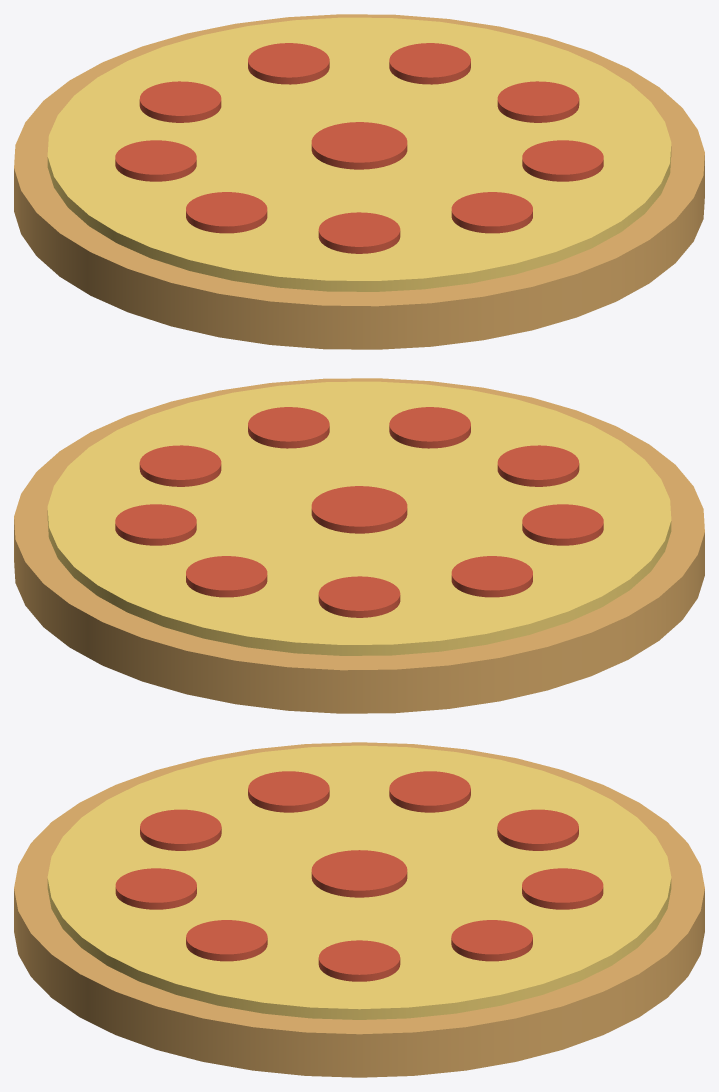
File: pizza.glb
The picture shows the model from 3 angles, top to bottom: view 1: azimuth 30°, elevation 25°; view 2: azimuth 150°, elevation 25°; view 3: azimuth 270°, elevation 25°; orthographic projection.
Size of the model in its own units: 1.44 by 0.141 by 1.44.
